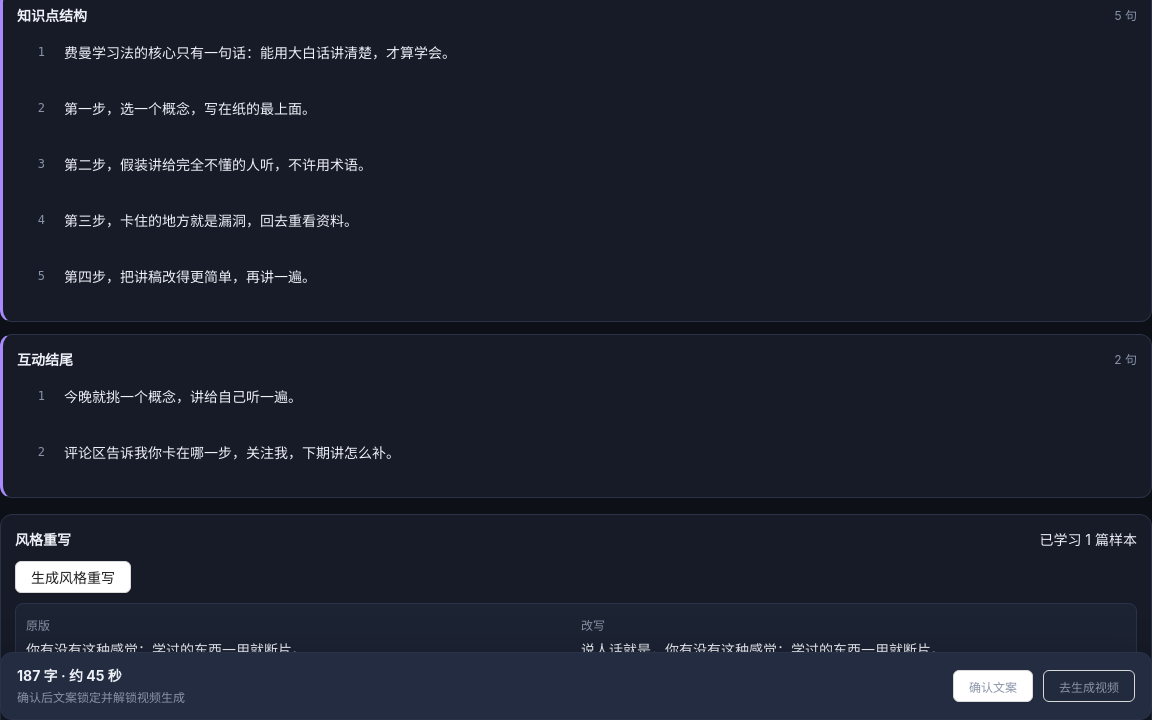
T-16/T-28～T-34 文案页 › 生成、自动保存、风格重写、接受建议并确认 G2
Earlier steps of the test are not shown.
(page scrolled)
Expected: the text "说人话就是，你有没有这种感觉：学过的东西一用就断片。" is shown, left=581, top=641, right=945, bottom=658
Click the button "确认文案" at [993, 686], box left=953, top=670, right=1033, bottom=702
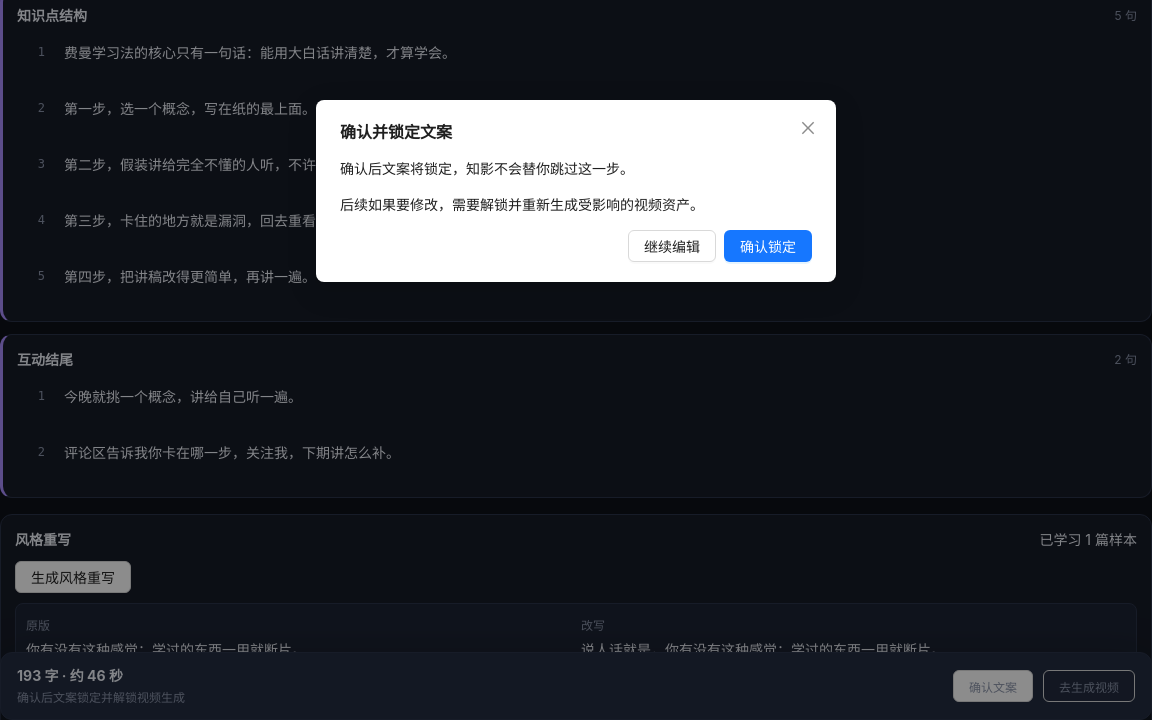
Click the button "确认锁定" at [768, 246], box left=724, top=230, right=812, bottom=262
(page scrolled)
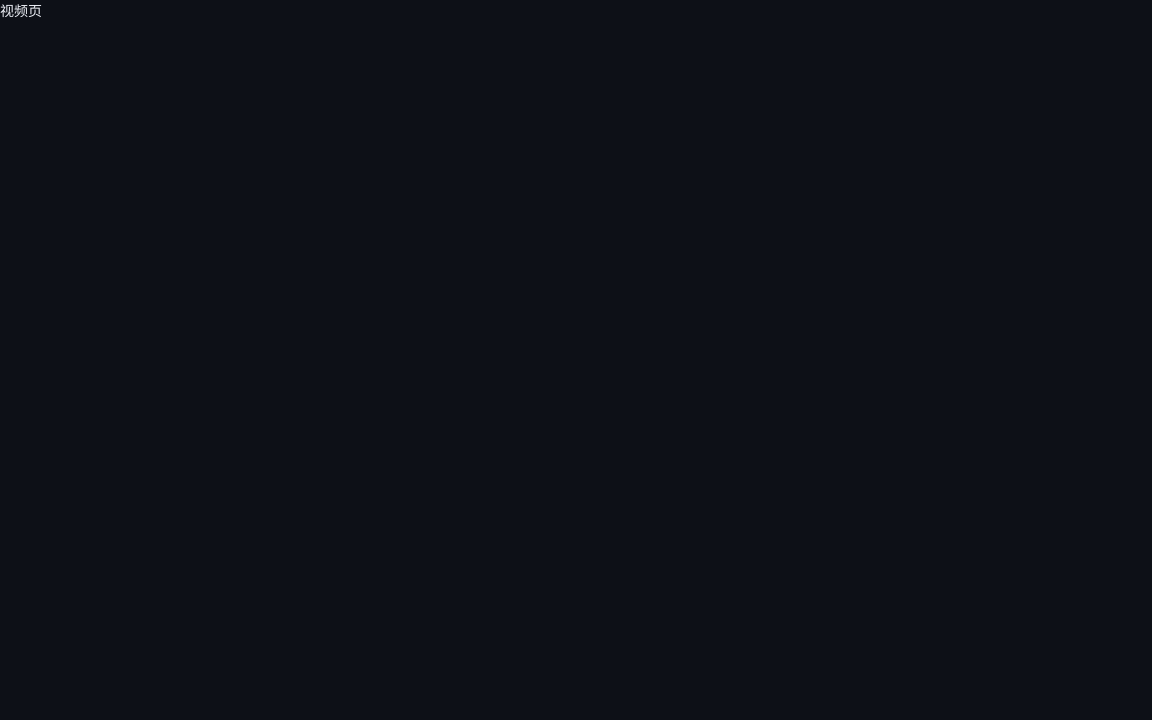
Expected: the text "视频页" is shown, left=0, top=2, right=42, bottom=19
